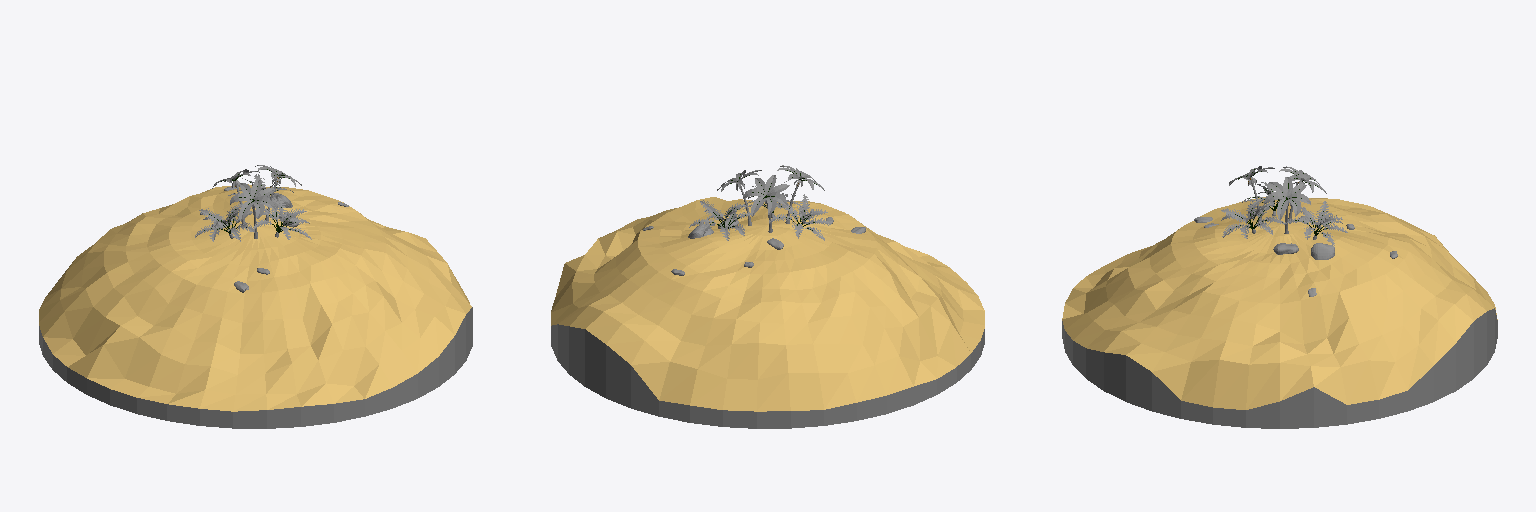
The model's file is palmislandsmall.obj.
3 renders of one model, left to right at view 1: azimuth 30°, elevation 25°; view 2: azimuth 150°, elevation 25°; view 3: azimuth 270°, elevation 25°, orthographic.
Visible parts, largest first — view 1: ground; view 2: ground; view 3: ground.
Part boxes in pixels (x1,y1,x2,y2): ground: (39, 184, 472, 428); ground: (551, 197, 984, 428); ground: (1062, 197, 1497, 428).
Bounding box in the file's own units: 46.56 × 19.5 × 46.56.